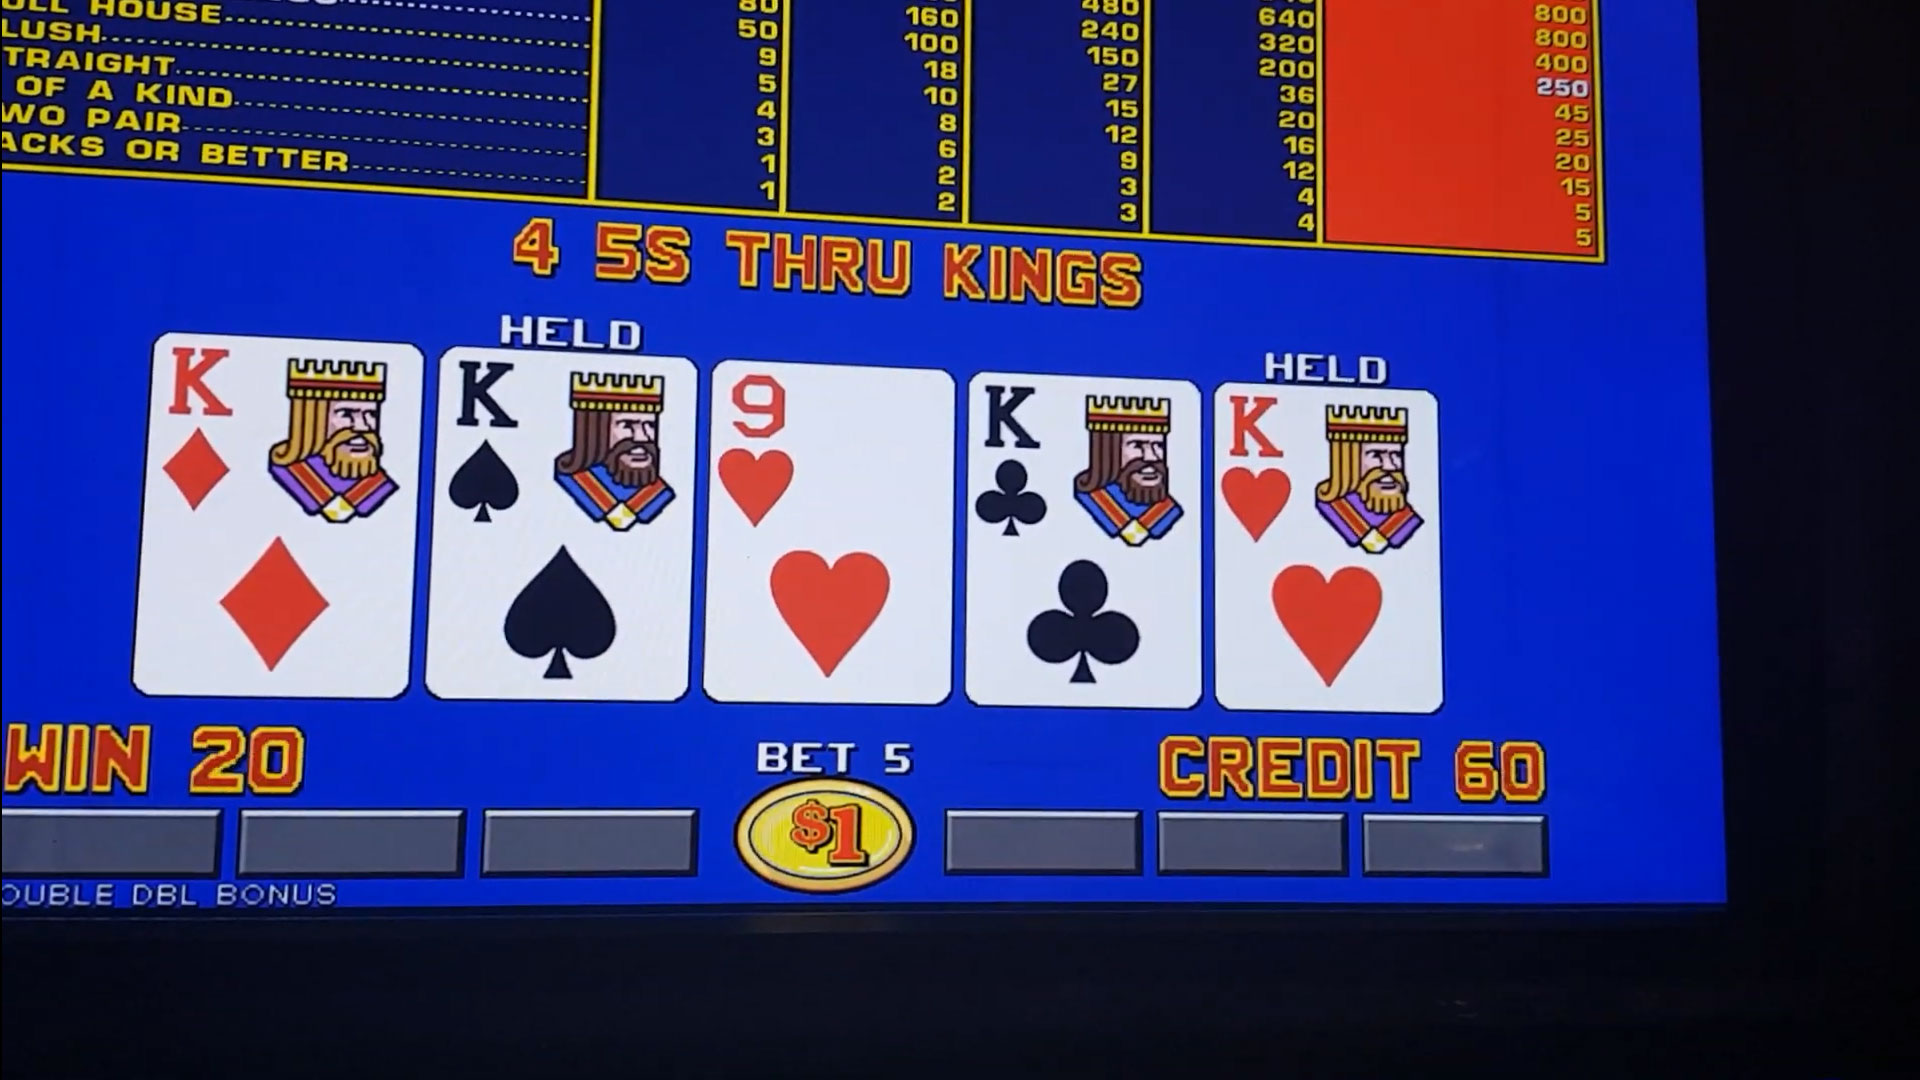CK: (972, 380, 1197, 558)
DK: (153, 345, 409, 520)
H9: (712, 371, 947, 546)
HK: (1221, 392, 1435, 555)
SK: (443, 356, 692, 531)
